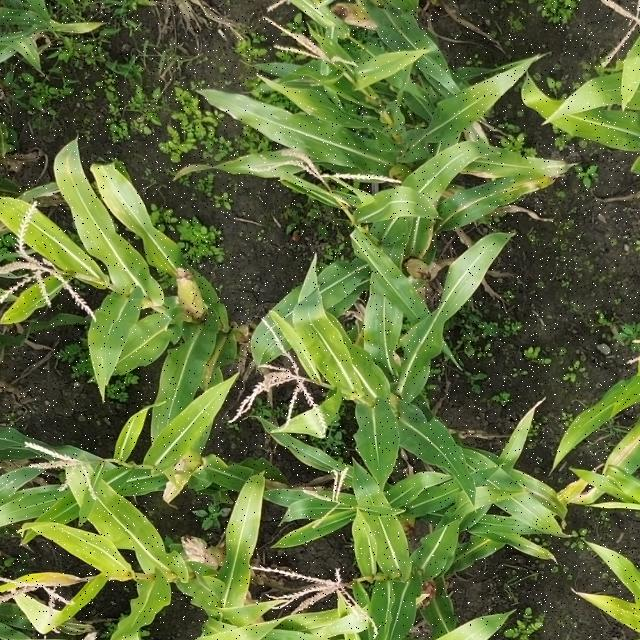gray-leaf-spot: (262, 88, 374, 154)
northern-leaf-blight: (556, 414, 636, 525)
southern-leaf-blight: (459, 145, 574, 216), (261, 306, 367, 369), (431, 433, 497, 489), (89, 180, 158, 232)
